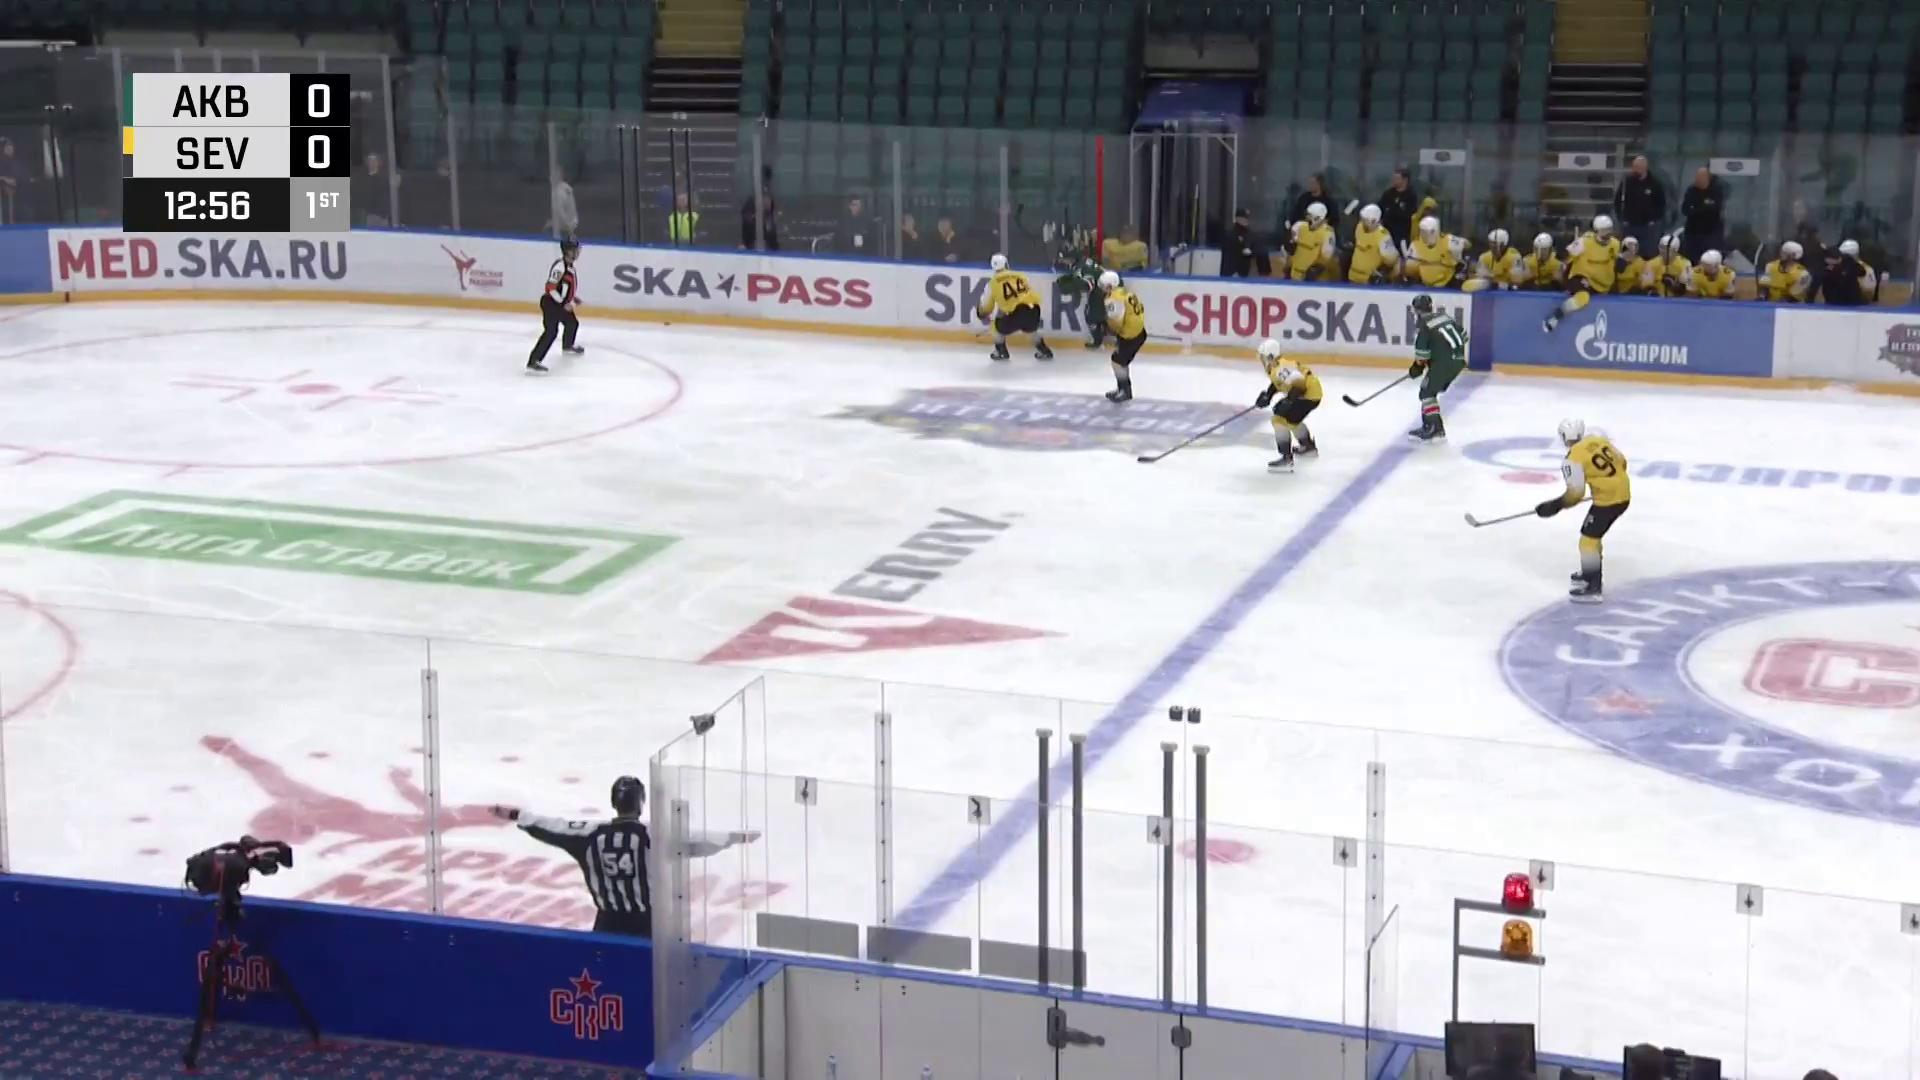ball: (665, 320, 673, 327)
